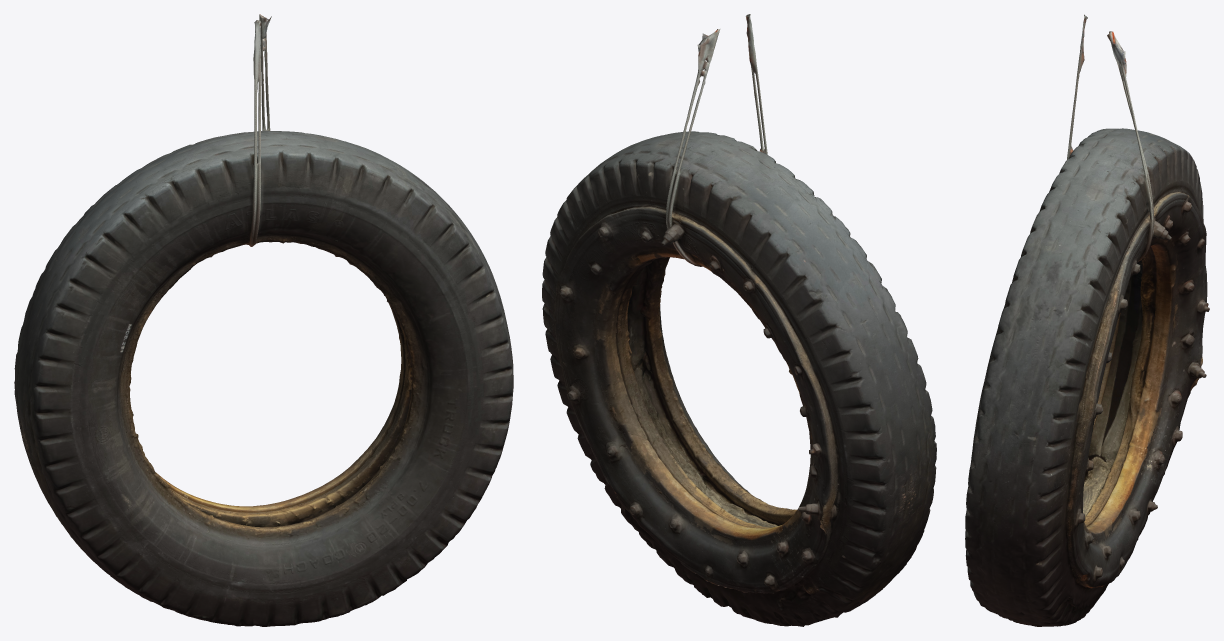
The model's file is Rengas_Low.fbx.
The picture shows the model from 3 angles, left to right: view 1: azimuth 30°, elevation 25°; view 2: azimuth 150°, elevation 25°; view 3: azimuth 270°, elevation 25°; orthographic projection. The views are drawn at different scales.
Parts seen in each view (by area): view 1: Rengas_Low; view 2: Rengas_Low; view 3: Rengas_Low.
Part boxes in pixels (x1,y1,x2,y2): Rengas_Low: (14,14,513,626); Rengas_Low: (542,14,936,626); Rengas_Low: (965,14,1209,626).
Size of the model in its own units: 768 by 1023 by 385.
1 material, 1 textured.
